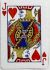jack: (1, 1, 48, 69)
